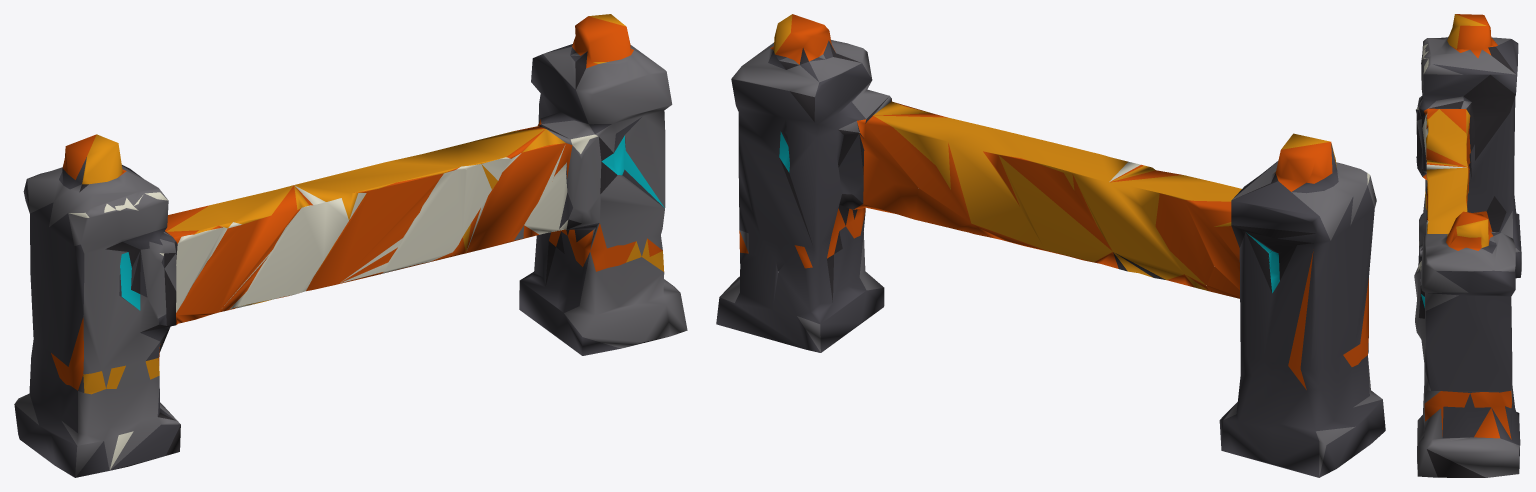
Rendered from barrier-lNLHEZB3.glb.
The picture shows the model from 3 angles, left to right: view 1: azimuth 30°, elevation 25°; view 2: azimuth 150°, elevation 25°; view 3: azimuth 270°, elevation 25°; orthographic projection. The views are drawn at different scales.
Parts seen in each view (by area): view 1: tripo_node_df6fb66c-6a98-4969-8271-b72570ef89e6; view 2: tripo_node_df6fb66c-6a98-4969-8271-b72570ef89e6; view 3: tripo_node_df6fb66c-6a98-4969-8271-b72570ef89e6.
Boxes of the visible parts, x1,y1,x2,y2 form: tripo_node_df6fb66c-6a98-4969-8271-b72570ef89e6: (14, 14, 687, 477); tripo_node_df6fb66c-6a98-4969-8271-b72570ef89e6: (716, 14, 1385, 477); tripo_node_df6fb66c-6a98-4969-8271-b72570ef89e6: (1414, 14, 1521, 477).
Bounding box in the file's own units: 0.9783 × 0.4599 × 0.1853.
